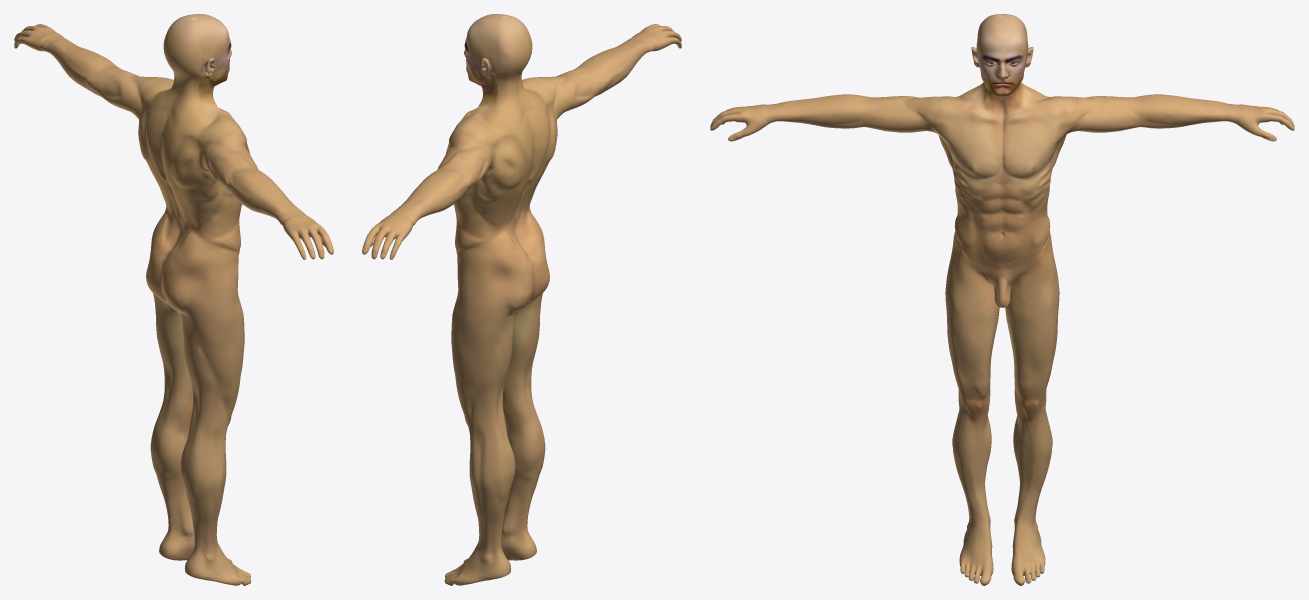
Rendered from man.FBX.
3 views of the same model, side by side, from view 1: azimuth 30°, elevation 25°; view 2: azimuth 150°, elevation 25°; view 3: azimuth 270°, elevation 25° (orthographic). The views are drawn at different scales.
Parts seen in each view (by area): view 1: CUERPO; view 2: CUERPO; view 3: CUERPO.
Part boxes in pixels (x1,y1,x2,y2): CUERPO: (14,14,333,585); CUERPO: (362,14,681,585); CUERPO: (710,14,1294,585).
Size of the model in its own units: 569 by 3631 by 3505.
